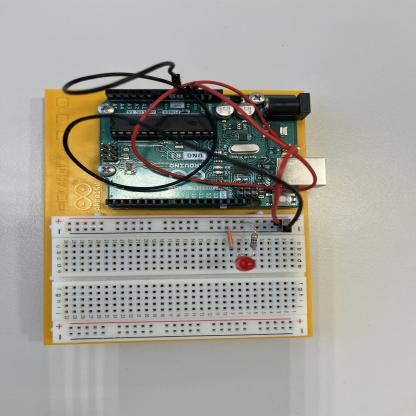5V: (126, 76, 304, 199)
ARDUINO: (102, 93, 304, 208)
Breadboard: (50, 213, 310, 345)
GND: (43, 108, 218, 201)
LED: (235, 256, 256, 272)
Resistor: (249, 232, 258, 250)
Short wire: (226, 230, 233, 246)
